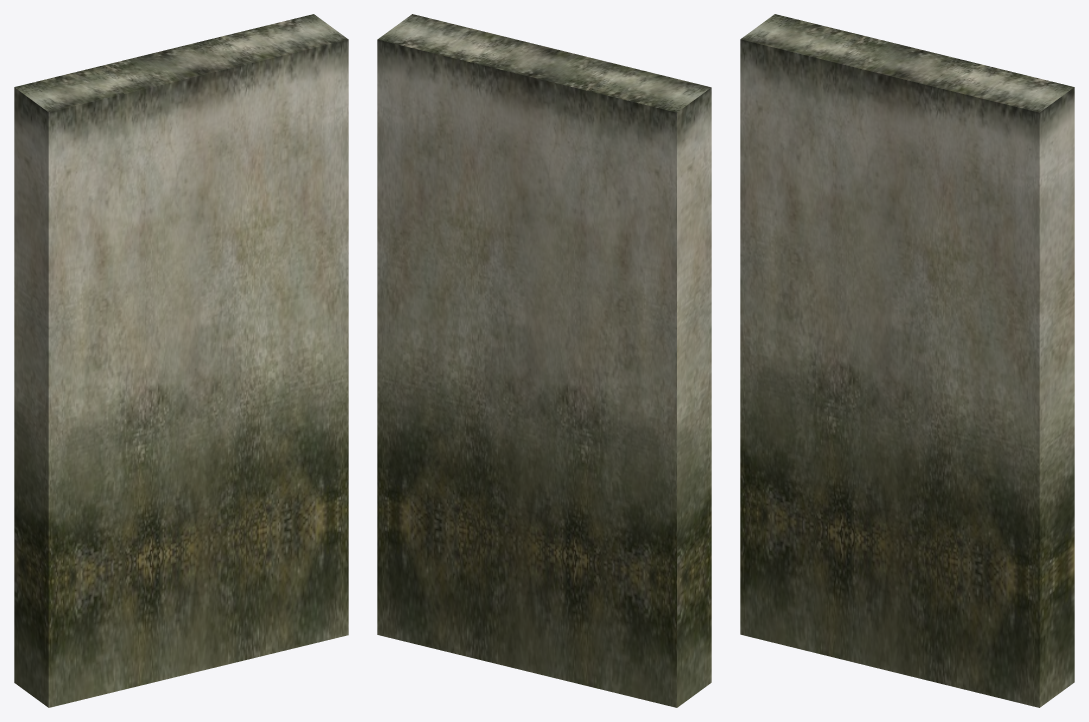
File: TallWallStucco_10.fbx
The picture shows the model from 3 angles, left to right: view 1: azimuth 30°, elevation 25°; view 2: azimuth 150°, elevation 25°; view 3: azimuth 330°, elevation 25°; orthographic projection.
Visible parts, largest first — view 1: lod_high; view 2: lod_high; view 3: lod_high.
Boxes of the visible parts, x1,y1,x2,y2 form: lod_high: [14, 14, 348, 707]; lod_high: [377, 14, 711, 707]; lod_high: [740, 14, 1074, 707].
Bounding box in the file's own units: 1001 × 1900 × 202.
Materials: 1 (1 with a texture image).
